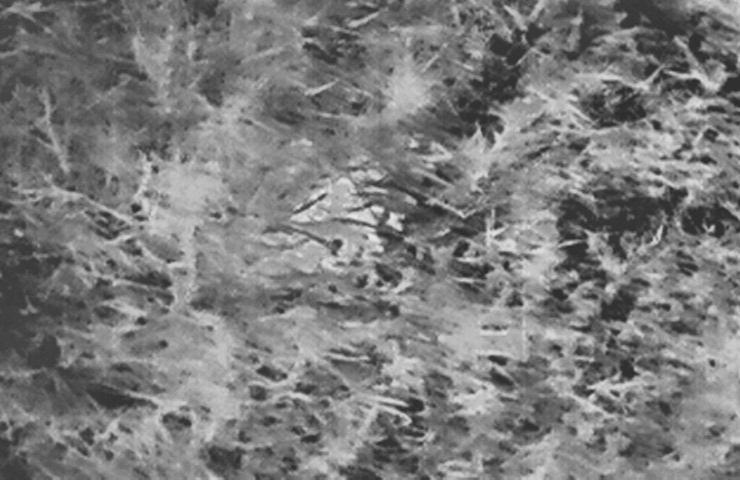landmines: (269, 147, 411, 277)
